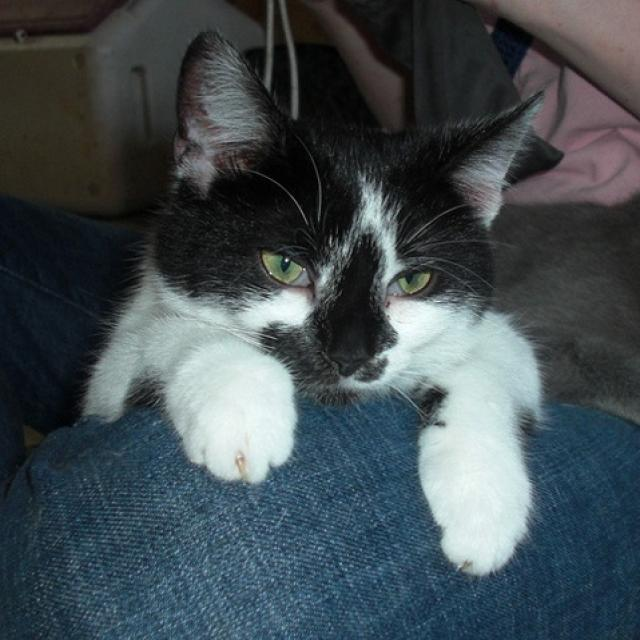cat: (81, 29, 640, 574)
